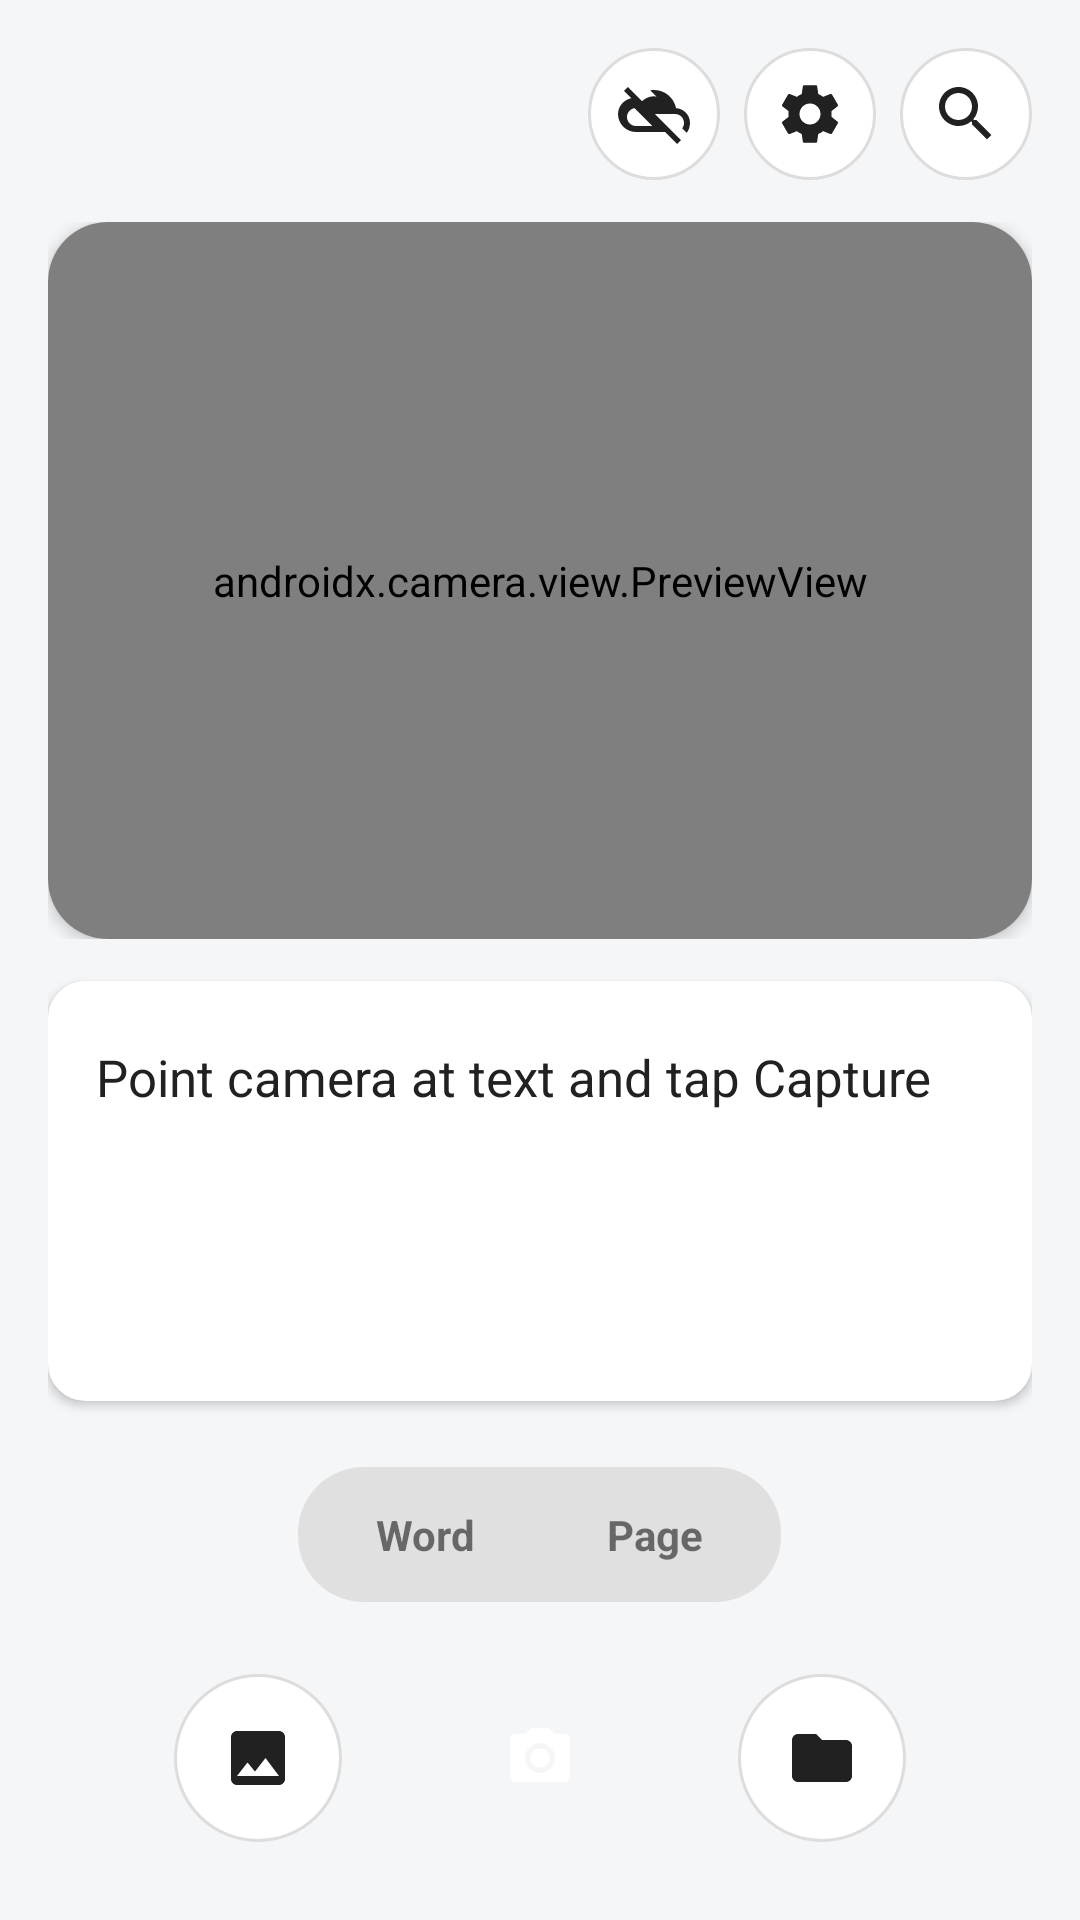

Locate icon controls on the screen. Image size 1080 x 1920, boxes as (x1, y1, x2, y2).
cloud off: (588, 48, 720, 180)
folder: (738, 1674, 906, 1842)
gallery: (174, 1674, 342, 1842)
search: (900, 48, 1032, 180)
settings: (744, 48, 876, 180)
